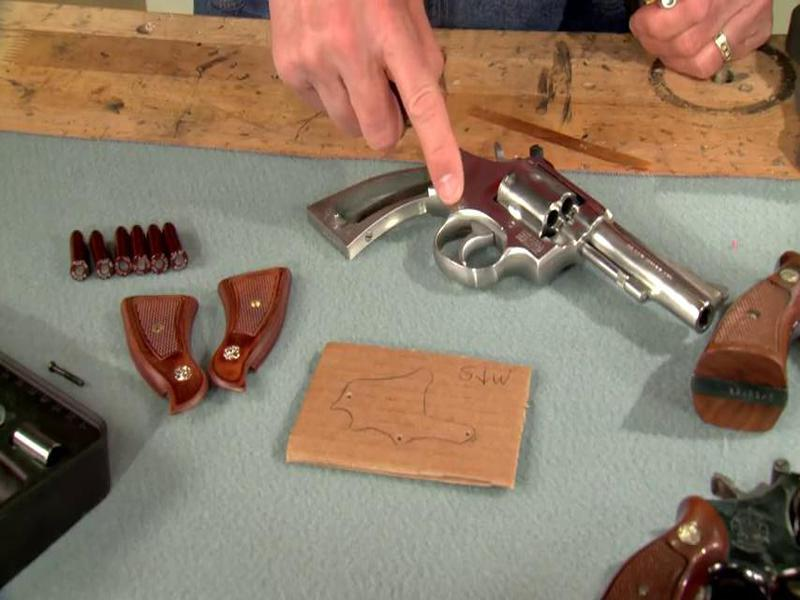Revolver: (305, 101, 764, 384)
